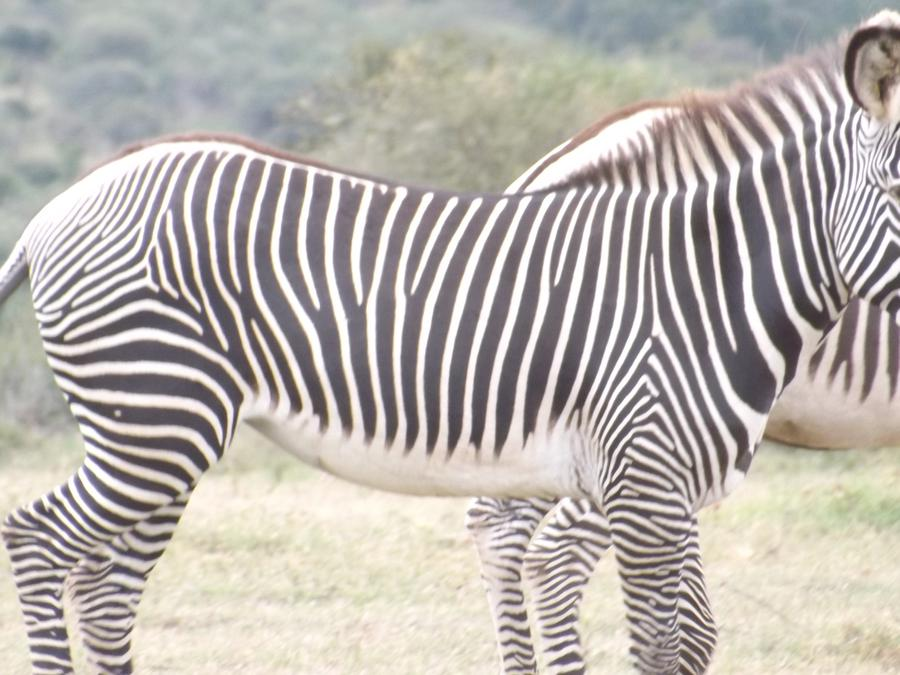zebra_grevys: (23, 106, 708, 511)
